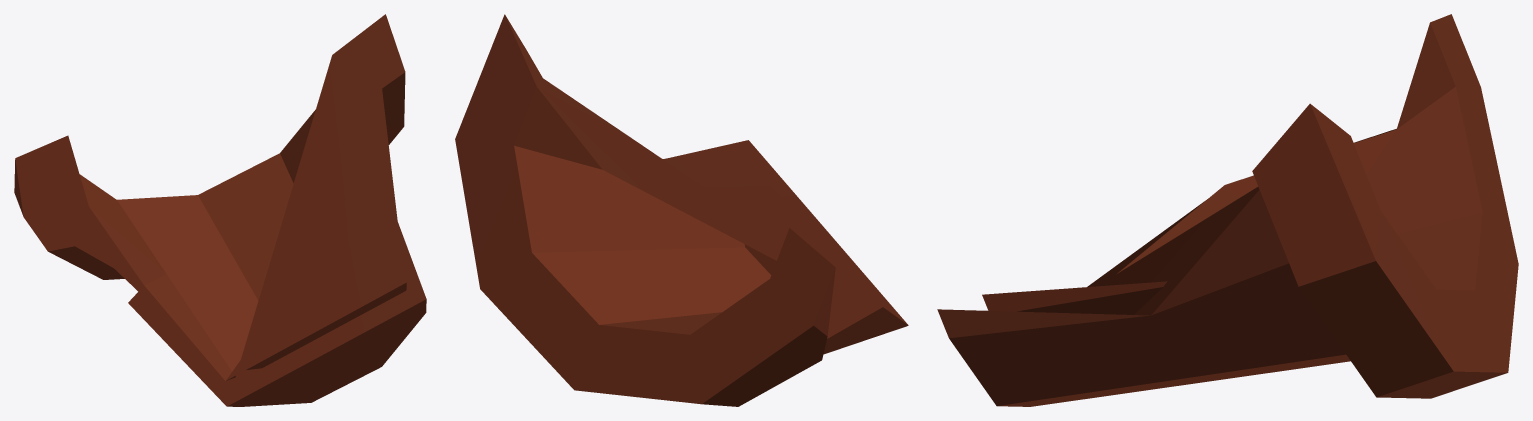
The model's file is Broken_pot_2a.fbx.
The picture shows the model from 3 angles, left to right: view 1: azimuth 30°, elevation 25°; view 2: azimuth 150°, elevation 25°; view 3: azimuth 270°, elevation 25°; orthographic projection. The views are drawn at different scales.
Parts seen in each view (by area): view 1: Cylinder.002; view 2: Cylinder.002; view 3: Cylinder.002.
Part boxes in pixels (x1,y1,x2,y2): Cylinder.002: [14, 14, 426, 406]; Cylinder.002: [455, 14, 908, 406]; Cylinder.002: [937, 14, 1518, 406].
Size of the model in its own units: 113 by 88.43 by 109.
